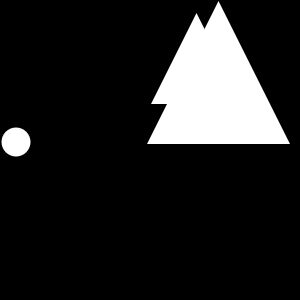rectangle: (2, 128, 30, 156)
triangle: (147, 1, 290, 144), (151, 13, 242, 104)
